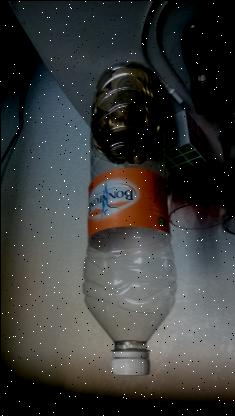Plastic Bottle: (82, 65, 176, 375)
